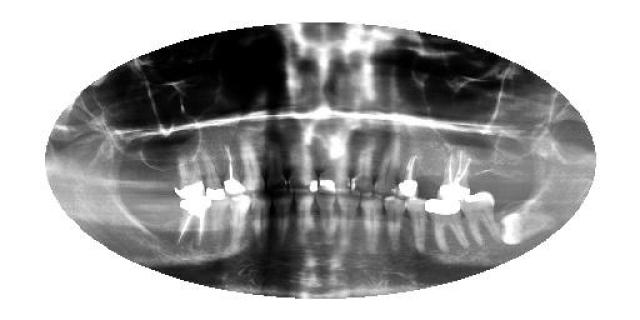Fillings: (461, 190, 500, 250), (425, 198, 470, 248), (174, 152, 208, 198), (200, 152, 228, 198)
Implant: (175, 198, 210, 248), (438, 150, 472, 199), (218, 146, 248, 195), (399, 152, 419, 198)
Restorations: (501, 212, 551, 246)
